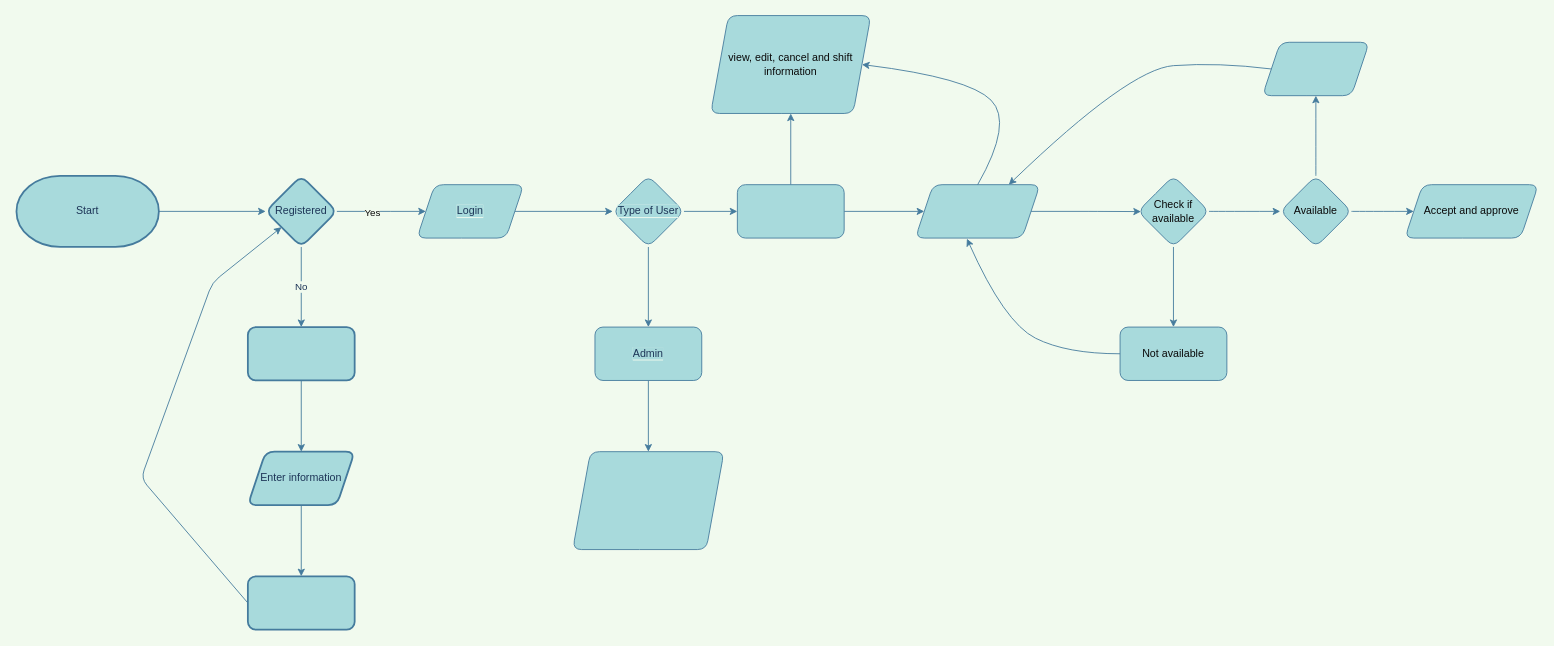
Image size: 1554x646. Some labels were removed from this diagram. The centre of each missing label's shape, as x and y in pixels:
add, delete and edit users: [648,500]
Decline: [1315,68]
End user: [790,211]
Make appointments: [977,211]
Register patient: [301,353]
Storage & Encryption of Information in the Database: [301,602]
